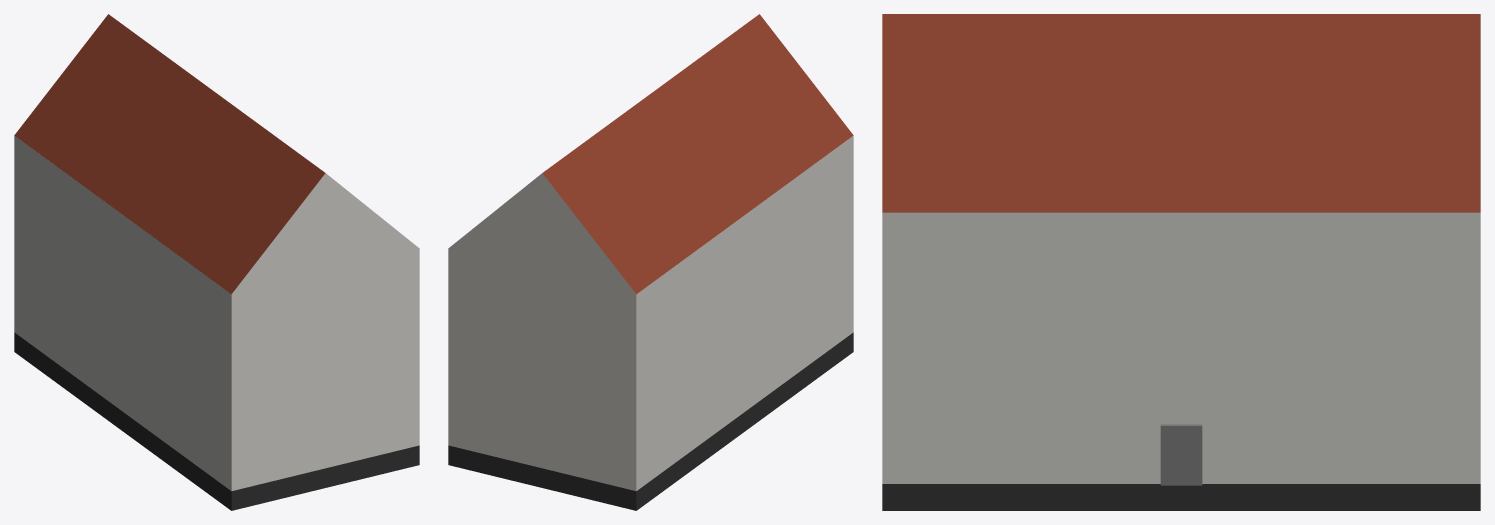
The model's file is house_1.bFc8AluK.glb.
3 views of the same model, side by side, from view 1: azimuth 30°, elevation 25°; view 2: azimuth 150°, elevation 25°; view 3: azimuth 270°, elevation 25° (orthographic). The views are drawn at different scales.
Parts seen in each view (by area): view 1: base, roof; view 2: base, roof; view 3: base, roof, door.
Part boxes in pixels (bbox=[...]): base: bbox=[14, 135, 419, 510]; roof: bbox=[14, 14, 419, 294]; base: bbox=[448, 135, 853, 510]; roof: bbox=[448, 14, 853, 294]; base: bbox=[882, 212, 1480, 510]; roof: bbox=[882, 14, 1480, 212]; door: bbox=[1160, 424, 1202, 485].
Bounding box in the file's own units: 1.01 × 1.6 × 2.
